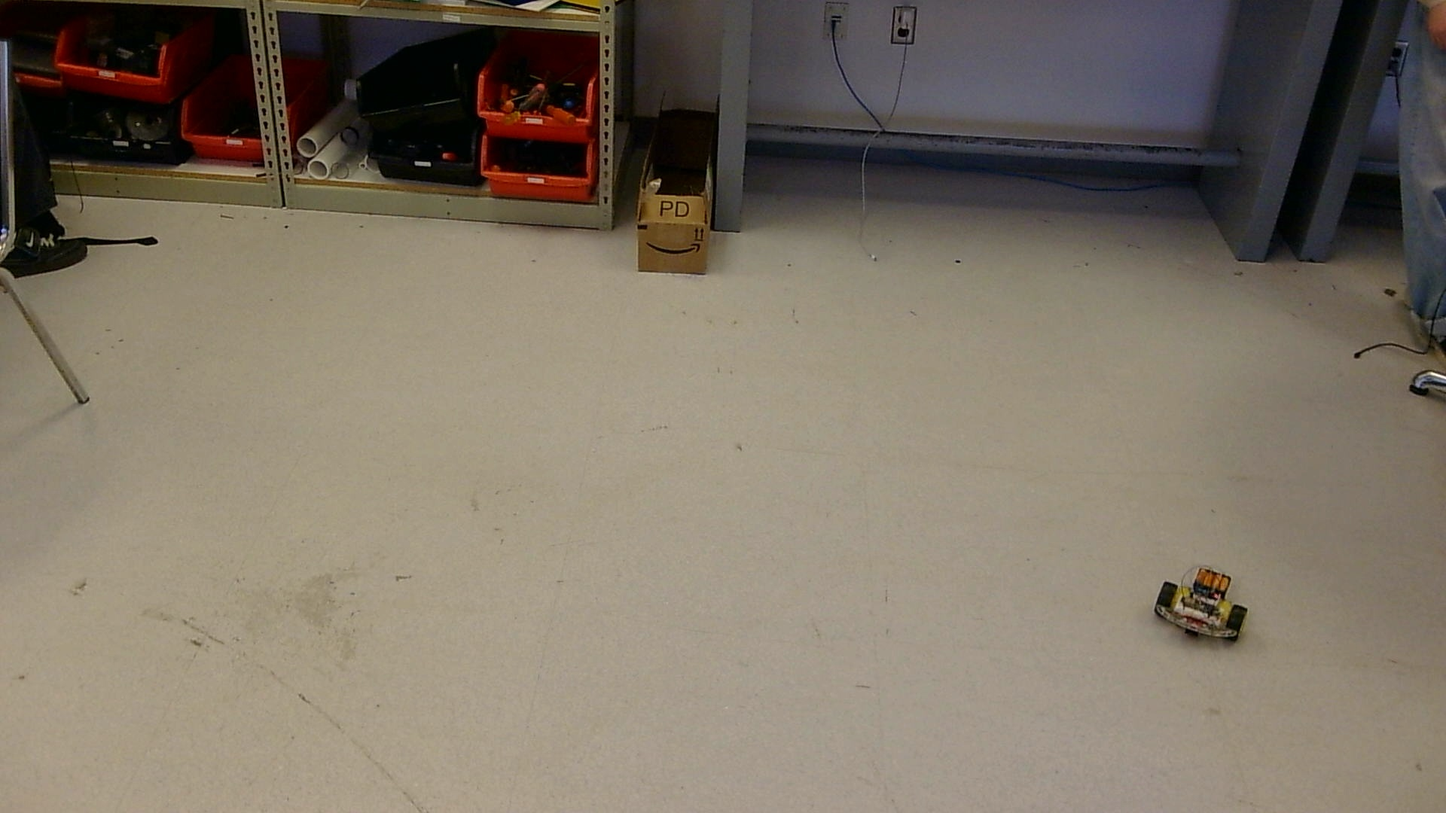robot: (1154, 567, 1247, 638)
